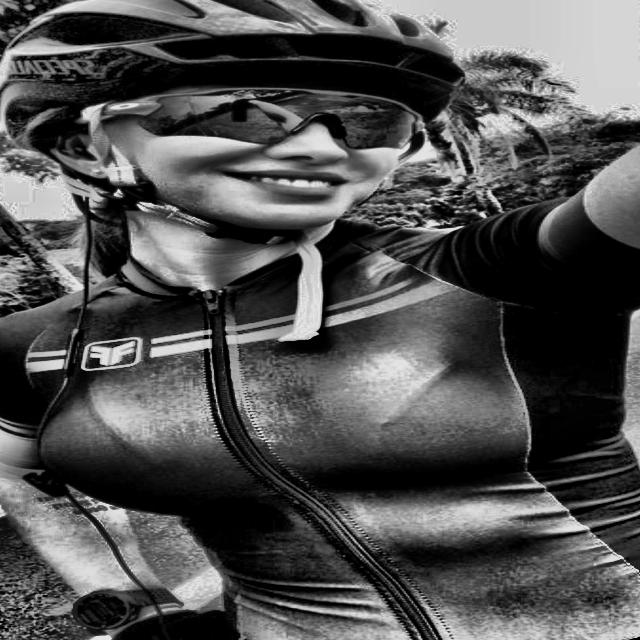Helmet: (0, 0, 489, 278)
